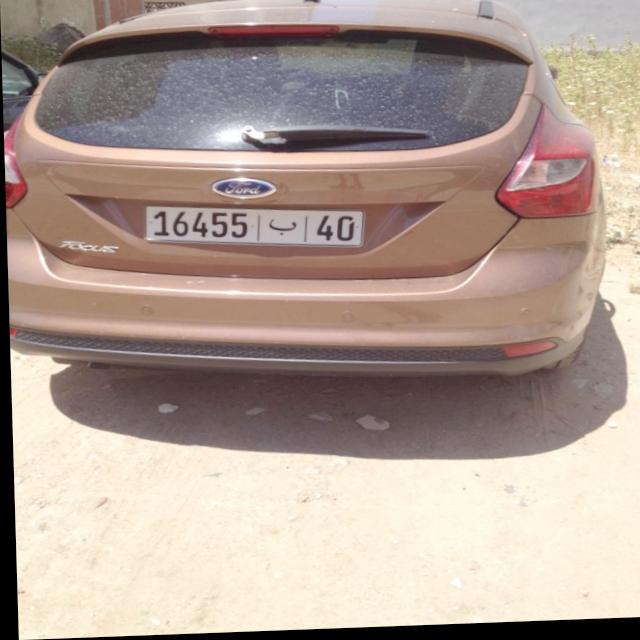License-Plate: (144, 208, 362, 249)
